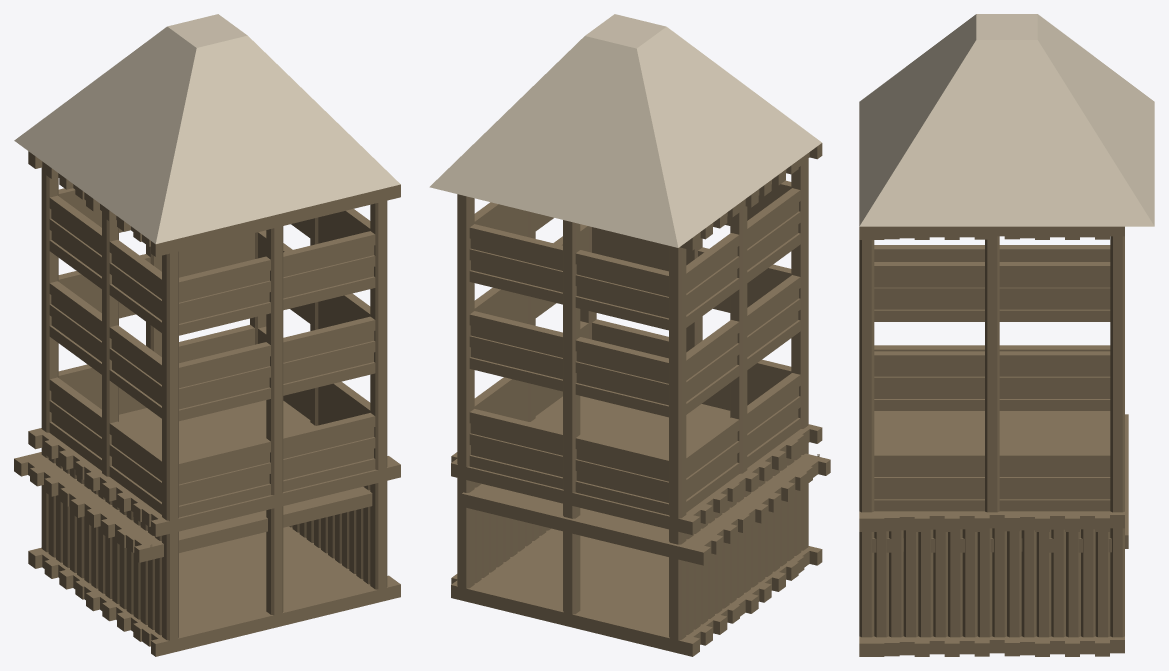
File: Gate.glb
3 views of the same model, side by side, from view 1: azimuth 30°, elevation 25°; view 2: azimuth 150°, elevation 25°; view 3: azimuth 270°, elevation 25° (orthographic). The views are drawn at different scales.
Parts seen in each view (by area): view 1: Object.010, biskupin-gate-wall_Instance.003, biskupin-gate-wall_Instance, tower-platform_Instance, tower-platform_Instance.002, Object.013, Object.009, biskupin-gate-wall_Instance.001, biskupin-gate-wall_Instance.002, Object.012, tower-platform_Instance.001, Object.014; view 2: Object.010, biskupin-gate-wall_Instance.001, biskupin-gate-wall_Instance, tower-platform_Instance, tower-platform_Instance.002, biskupin-gate-wall_Instance.003, Object.009, biskupin-gate-wall_Instance.002, Object.013, Object.012, Object.011, tower-platform_Instance.001; view 3: Object.010, biskupin-gate-wall_Instance.002, Object.012, tower-platform_Instance.002, biskupin-gate-wall_Instance, tower-platform_Instance, biskupin-gate-wall_Instance.003, tower-platform_Instance.001, Object.009, biskupin-gate-wall_Instance.001.
Boxes of the visible parts, left/top/right/bottom form: Object.010: left=14, top=14, right=400, bottom=243; biskupin-gate-wall_Instance.003: left=162, top=200, right=387, bottom=519; biskupin-gate-wall_Instance: left=41, top=167, right=178, bottom=520; tower-platform_Instance: left=28, top=526, right=400, bottom=656; tower-platform_Instance.002: left=28, top=400, right=400, bottom=536; Object.013: left=41, top=447, right=178, bottom=640; Object.009: left=14, top=452, right=372, bottom=562; biskupin-gate-wall_Instance.001: left=41, top=172, right=266, bottom=431; biskupin-gate-wall_Instance.002: left=258, top=203, right=378, bottom=469; Object.012: left=289, top=481, right=387, bottom=589; tower-platform_Instance.001: left=28, top=151, right=400, bottom=256; Object.014: left=266, top=506, right=283, bottom=615; Object.010: left=429, top=14, right=821, bottom=247; biskupin-gate-wall_Instance.001: left=466, top=196, right=686, bottom=518; biskupin-gate-wall_Instance: left=669, top=160, right=806, bottom=518; tower-platform_Instance: left=451, top=528, right=822, bottom=656; tower-platform_Instance.002: left=451, top=396, right=822, bottom=535; biskupin-gate-wall_Instance.003: left=592, top=158, right=808, bottom=428; Object.009: left=461, top=453, right=830, bottom=565; biskupin-gate-wall_Instance.002: left=457, top=194, right=596, bottom=466; Object.013: left=669, top=443, right=808, bottom=640; Object.012: left=457, top=478, right=550, bottom=588; Object.011: left=563, top=503, right=580, bottom=614; tower-platform_Instance.001: left=680, top=143, right=822, bottom=250; Object.010: left=859, top=14, right=1154, bottom=226; biskupin-gate-wall_Instance.002: left=874, top=236, right=1124, bottom=512; Object.012: left=859, top=528, right=1124, bottom=637; tower-platform_Instance.002: left=859, top=411, right=1124, bottom=531; biskupin-gate-wall_Instance: left=874, top=245, right=1110, bottom=351; tower-platform_Instance: left=859, top=636, right=1124, bottom=656; biskupin-gate-wall_Instance.003: left=859, top=240, right=874, bottom=512; tower-platform_Instance.001: left=859, top=226, right=1124, bottom=239; Object.009: left=872, top=414, right=1128, bottom=552; biskupin-gate-wall_Instance.001: left=1110, top=236, right=1112, bottom=512.
Size of the model in its own units: 25.22 by 50.9 by 24.01.
